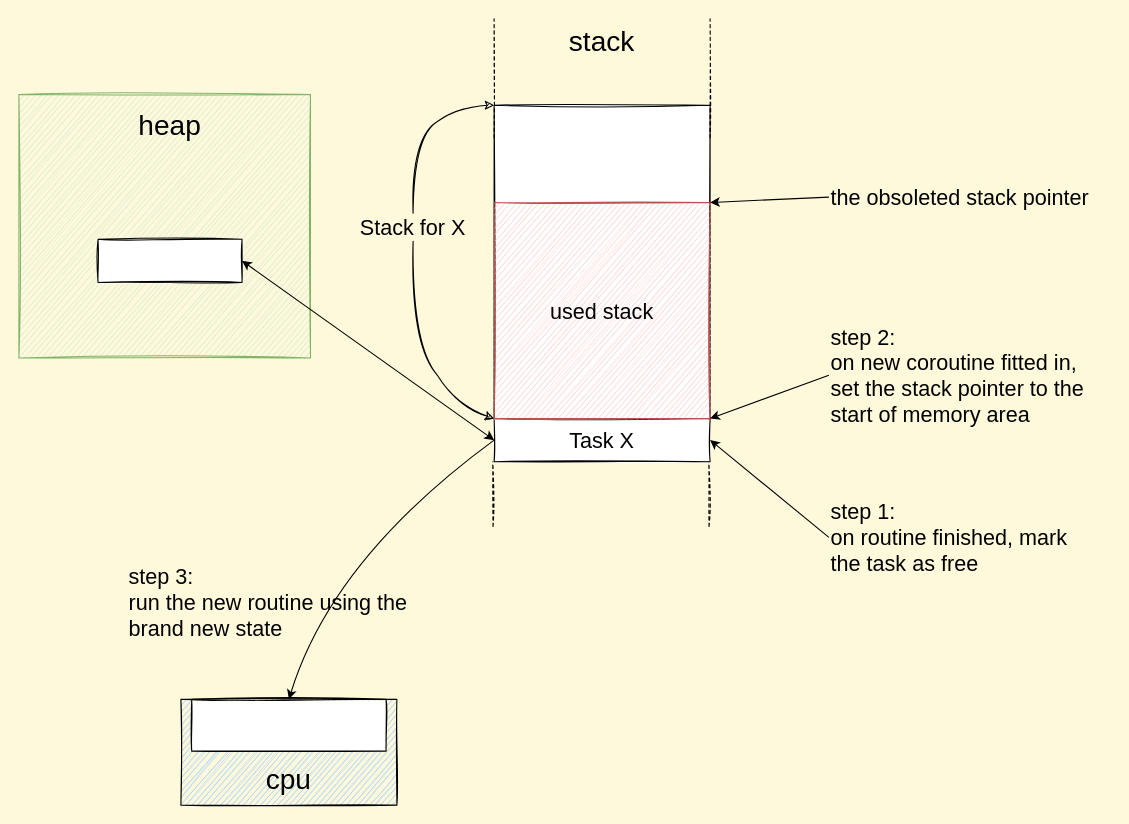
Some shapes in this 1129 by 824 pixel diagram are drawn without their labels. The shapes that lost their labels are listed below. From the top down, each one's centre as x and y in pixels, then its label:
the point at 169,260: Coroutine X
the point at 288,724: registers
